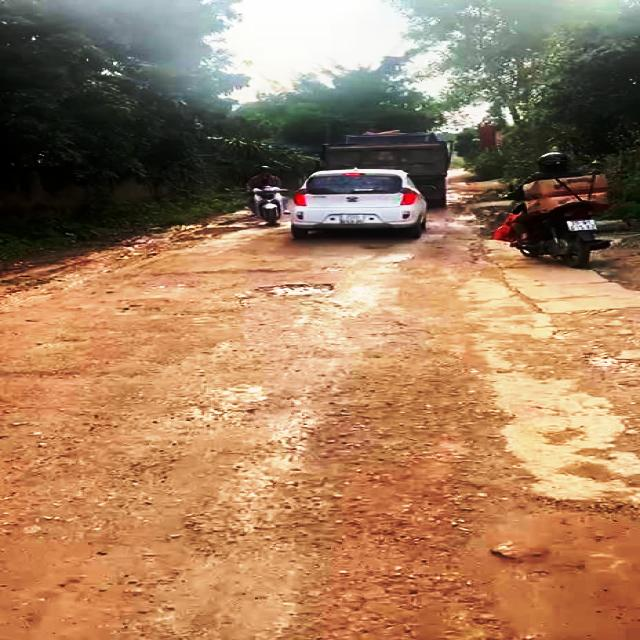pothole: (458, 493, 640, 640), (252, 280, 342, 299)
